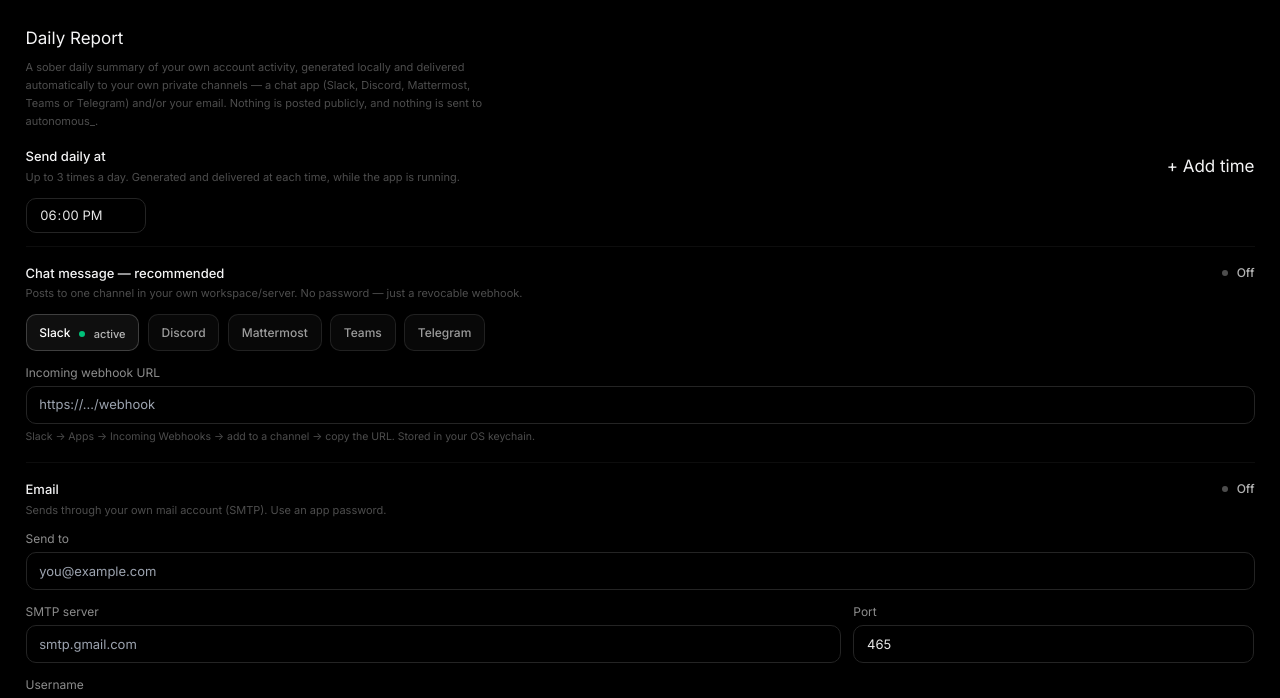
Test: Daily Report card › Telegram uses bot token + chat ID instead of a webhook URL
The width and height of the screenshot is (1280, 698).
Click the button with aria-label "provider-telegram". click: point(444, 333)
box: [404,314,485,351]
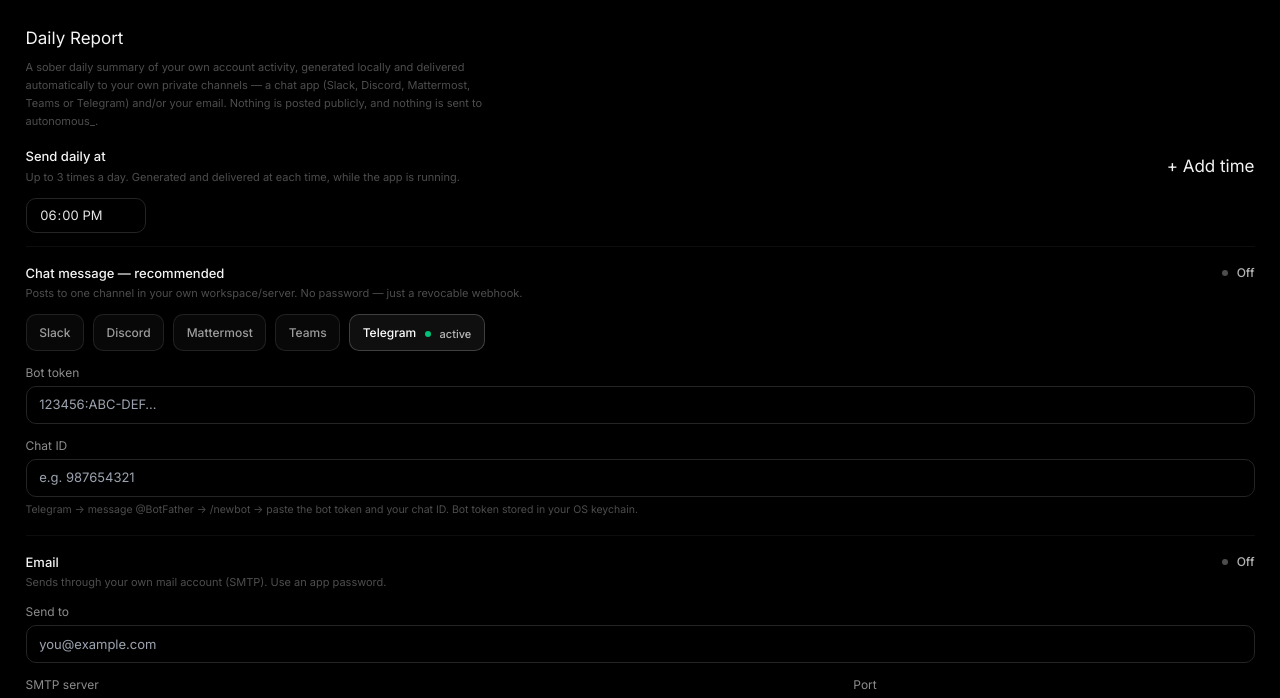
Check: the password field named "telegram-token" is shown, box [26,386,1254,424]
Check: the field named "telegram-chat-id" is shown, box [26,459,1254,497]
Check: the password field labelled "webhook-url" is gone
